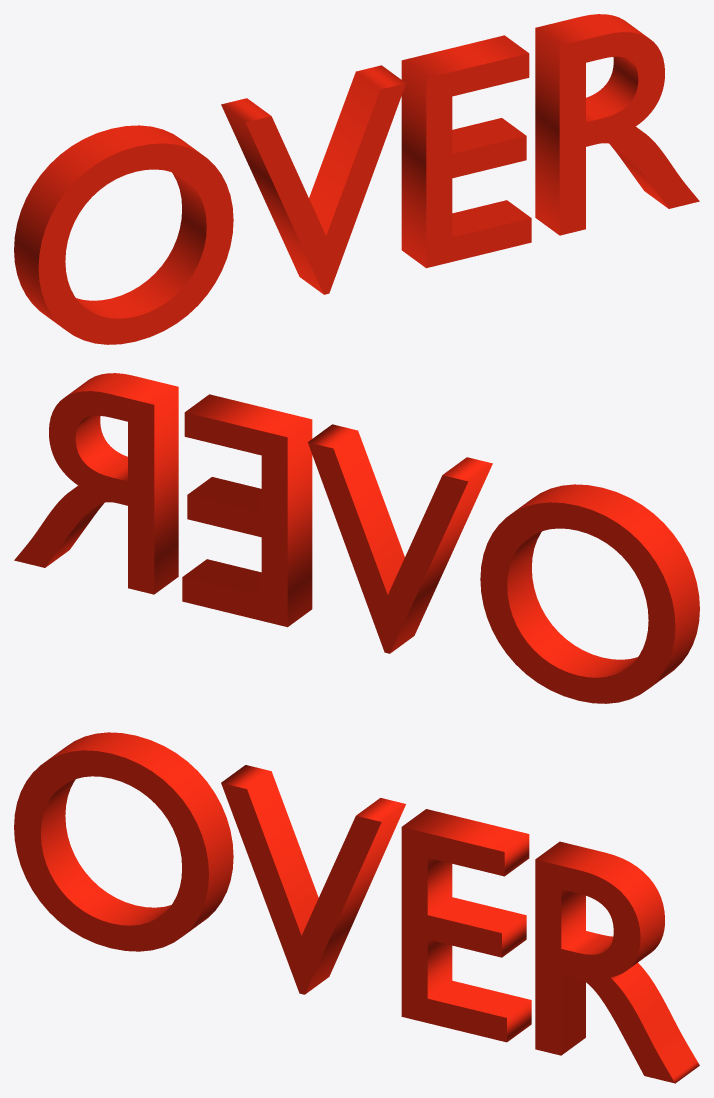
Rendered from Over.obj.
The picture shows the model from 3 angles, top to bottom: view 1: azimuth 30°, elevation 25°; view 2: azimuth 150°, elevation 25°; view 3: azimuth 330°, elevation 25°; orthographic projection.
Parts seen in each view (by area): view 1: Text; view 2: Text; view 3: Text.
Boxes of the visible parts, x1=… form: Text: x1=14, y1=14, x2=699, y2=344; Text: x1=14, y1=373, x2=699, y2=703; Text: x1=14, y1=732, x2=699, y2=1083.
Size of the model in its own units: 2.49 by 0.7 by 0.16.
